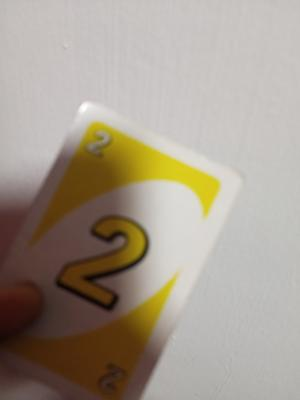num_2: (54, 201, 160, 345)
yellow: (82, 126, 128, 193)
